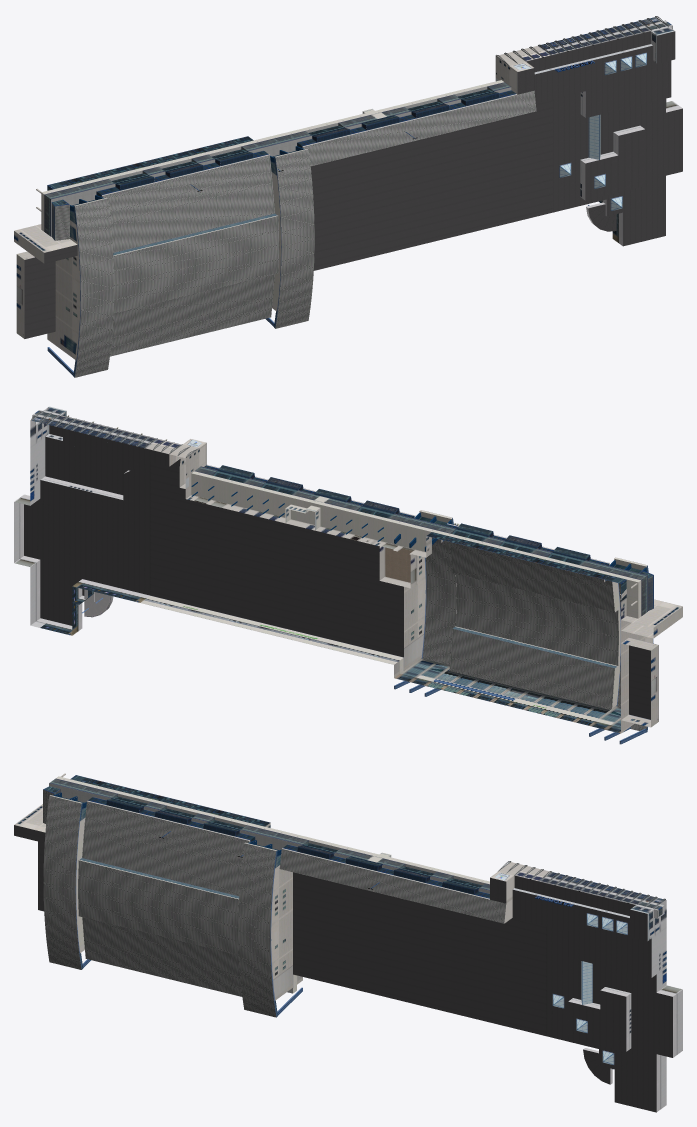
The model's file is DEMO_Terminal.OBJ.
3 views of the same model, one above another, from view 1: azimuth 30°, elevation 25°; view 2: azimuth 150°, elevation 25°; view 3: azimuth 330°, elevation 25° (orthographic). The views are drawn at different scales.
Parts seen in each view (by area): view 1: part_6_LOD_100, part_3_LOD_100, part_2_LOD_100, part_5_LOD_100, part_1_LOD_100, part_7_LOD_100, part_12_LOD_100, part_4_LOD_100, part_0_LOD_100, part_10_LOD_100, part_8_LOD_100; view 2: part_6_LOD_100, part_3_LOD_100, part_10_LOD_100, part_7_LOD_100, part_5_LOD_100, part_2_LOD_100, part_0_LOD_100, part_1_LOD_100, part_12_LOD_100, part_8_LOD_100, part_11_LOD_100; view 3: part_6_LOD_100, part_3_LOD_100, part_2_LOD_100, part_1_LOD_100, part_12_LOD_100, part_0_LOD_100, part_7_LOD_100, part_5_LOD_100, part_4_LOD_100, part_10_LOD_100, part_8_LOD_100.
Boxes of the visible parts, bbox=[...] form: part_6_LOD_100: bbox=[24, 31, 682, 338]; part_3_LOD_100: bbox=[55, 90, 536, 377]; part_2_LOD_100: bbox=[44, 93, 499, 255]; part_5_LOD_100: bbox=[14, 52, 646, 338]; part_1_LOD_100: bbox=[47, 157, 281, 377]; part_7_LOD_100: bbox=[41, 80, 589, 375]; part_12_LOD_100: bbox=[514, 17, 674, 74]; part_4_LOD_100: bbox=[51, 86, 511, 236]; part_0_LOD_100: bbox=[580, 25, 682, 245]; part_10_LOD_100: bbox=[36, 16, 668, 211]; part_8_LOD_100: bbox=[338, 82, 515, 127]; part_6_LOD_100: bbox=[24, 425, 650, 719]; part_3_LOD_100: bbox=[422, 537, 646, 731]; part_10_LOD_100: bbox=[31, 410, 637, 664]; part_7_LOD_100: bbox=[82, 464, 647, 744]; part_5_LOD_100: bbox=[225, 490, 682, 733]; part_2_LOD_100: bbox=[349, 500, 647, 668]; part_0_LOD_100: bbox=[14, 470, 149, 635]; part_1_LOD_100: bbox=[394, 518, 653, 733]; part_12_LOD_100: bbox=[30, 406, 181, 505]; part_8_LOD_100: bbox=[194, 465, 361, 510]; part_11_LOD_100: bbox=[379, 524, 457, 588]; part_6_LOD_100: bbox=[14, 825, 672, 1112]; part_3_LOD_100: bbox=[43, 789, 506, 1017]; part_2_LOD_100: bbox=[49, 778, 474, 899]; part_1_LOD_100: bbox=[43, 786, 302, 1017]; part_12_LOD_100: bbox=[513, 866, 666, 992]; part_0_LOD_100: bbox=[568, 909, 682, 1111]; part_7_LOD_100: bbox=[50, 776, 612, 1069]; part_5_LOD_100: bbox=[14, 775, 627, 1064]; part_4_LOD_100: bbox=[49, 783, 489, 993]; part_10_LOD_100: bbox=[60, 773, 665, 923]; part_8_LOD_100: bbox=[346, 856, 489, 898].
Size of the model in its own units: 239 by 74.47 by 21.06.
